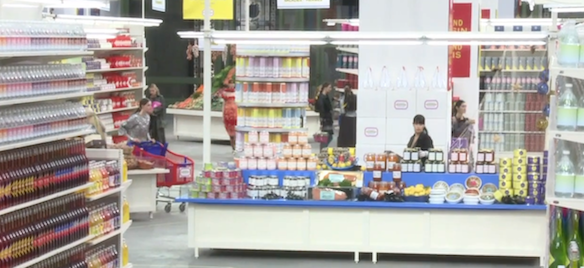Age_20_30: (412, 117, 428, 135), (458, 97, 470, 115), (323, 81, 332, 94)
Age_below20: (139, 100, 153, 116)
E_Asian: (412, 117, 428, 135), (458, 97, 470, 115)
E_White: (139, 100, 153, 116), (323, 81, 332, 94)
Emotion_Neutral: (412, 117, 428, 135), (139, 100, 153, 116), (458, 97, 470, 115), (323, 81, 332, 94)
G_ Female: (412, 117, 428, 135), (139, 100, 153, 116), (458, 97, 470, 115), (323, 81, 332, 94)
